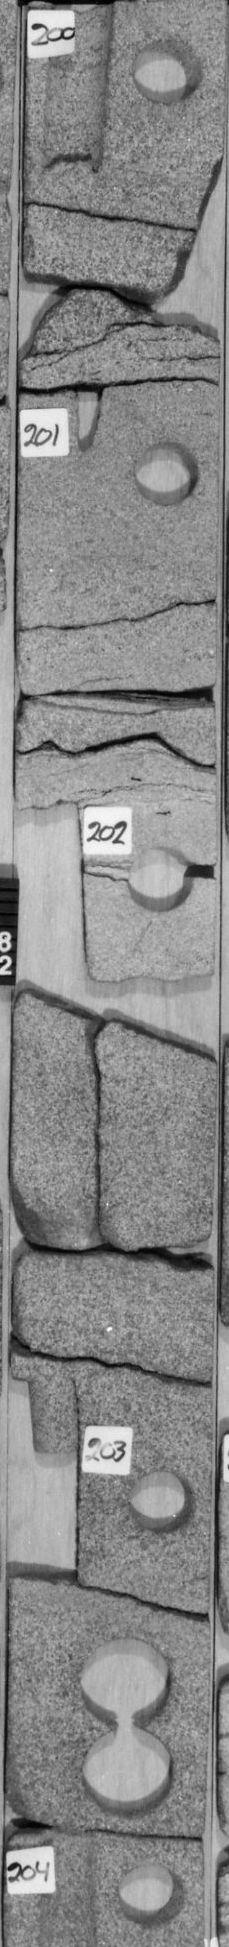hplug: (121, 30, 209, 112), (121, 434, 207, 512), (119, 842, 199, 918), (123, 1458, 197, 1538), (111, 1856, 191, 1928)
scal: (73, 1726, 185, 1822), (71, 1630, 175, 1726)
vplug: (1, 1380, 85, 1588), (13, 788, 95, 988), (37, 1, 115, 176), (33, 1840, 105, 1944), (65, 384, 109, 462)
